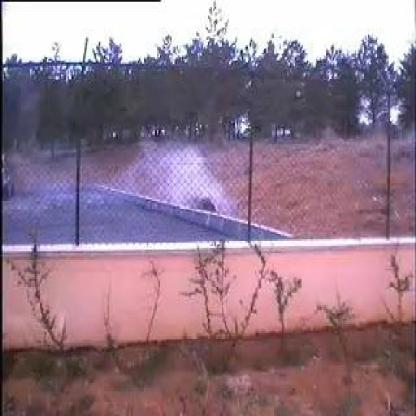-: (37, 138, 248, 240)
